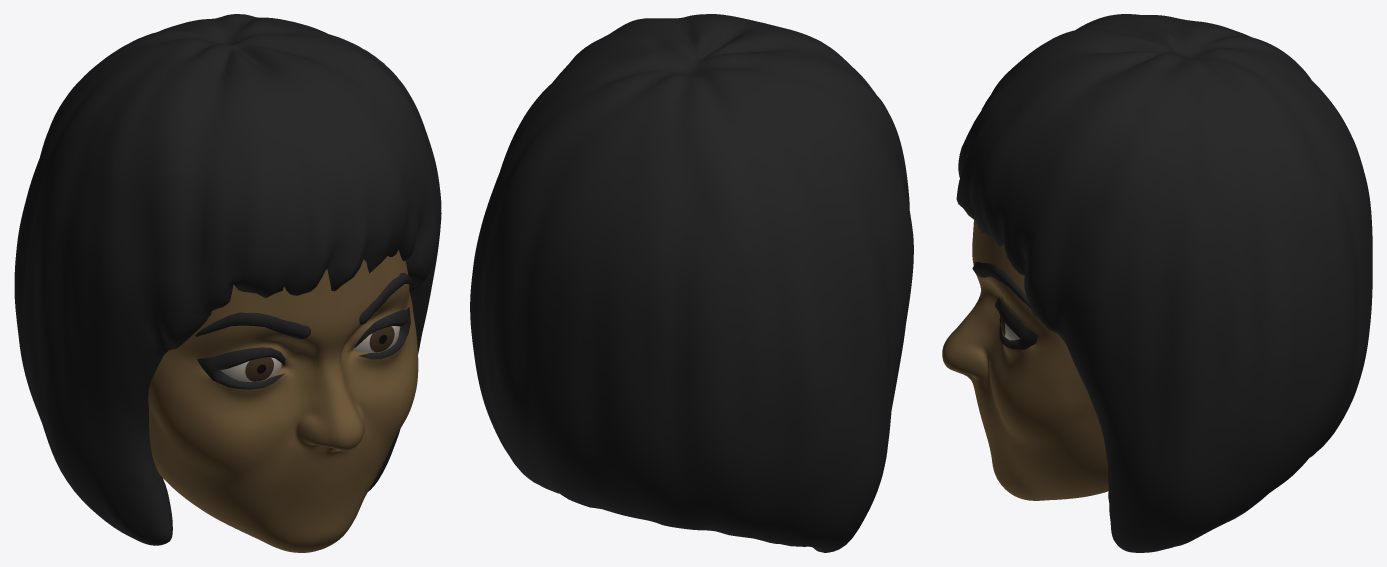
The model's file is head.fbx.
3 views of the same model, side by side, from view 1: azimuth 30°, elevation 25°; view 2: azimuth 150°, elevation 25°; view 3: azimuth 270°, elevation 25° (orthographic). The views are drawn at different scales.
Visible parts, largest first — view 1: Head; view 2: Head; view 3: Head.
Boxes of the visible parts, left/top/right/bottom form: Head: left=14, top=14, right=441, bottom=552; Head: left=470, top=14, right=913, bottom=552; Head: left=942, top=14, right=1372, bottom=552.
Size of the model in its own units: 34.07 by 41.28 by 35.19.
Materials: 1 (1 with a texture image).
